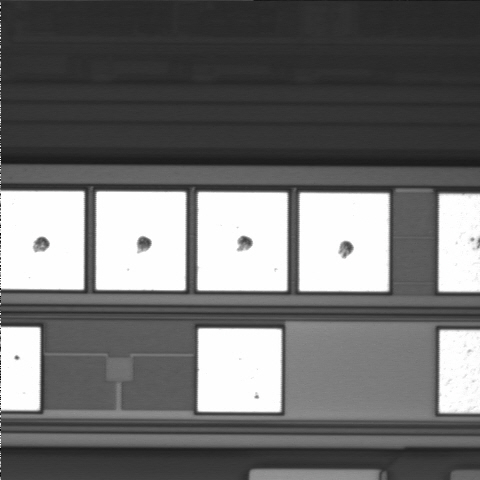pad: (96, 192, 186, 290), (299, 193, 389, 291), (198, 192, 287, 291), (198, 328, 281, 412)
